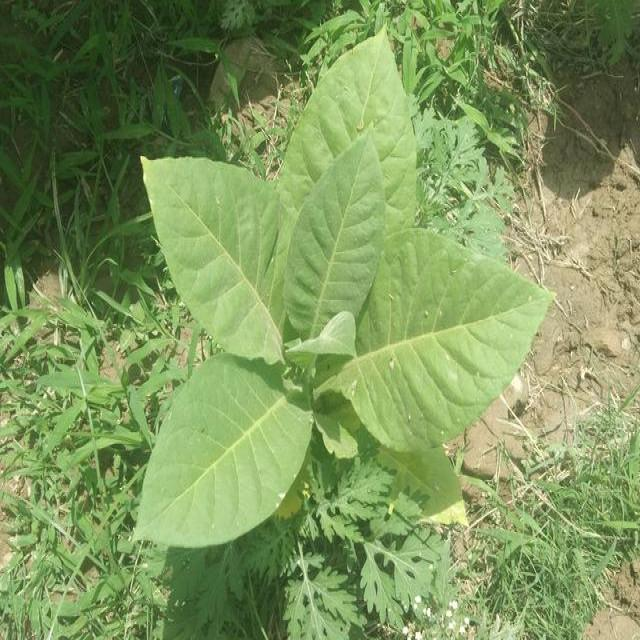crop: (129, 28, 549, 552)
